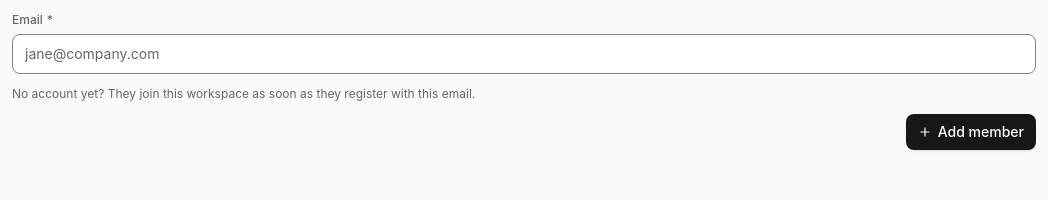
shows a conflict from the server as a form error
Type "ada@example.com" into the field labelled "Email" at [524, 54], box [12,34,1036,74]
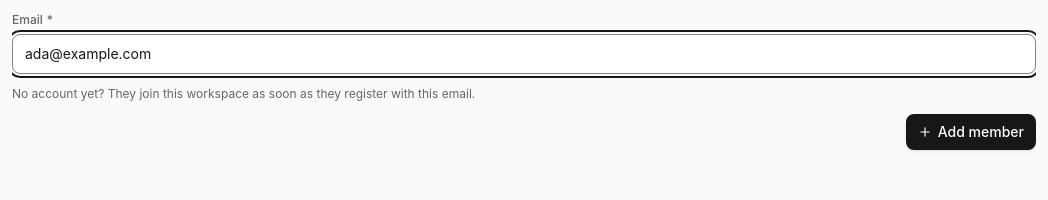
Click the button "Add member" at [971, 132], box [906,114,1036,150]
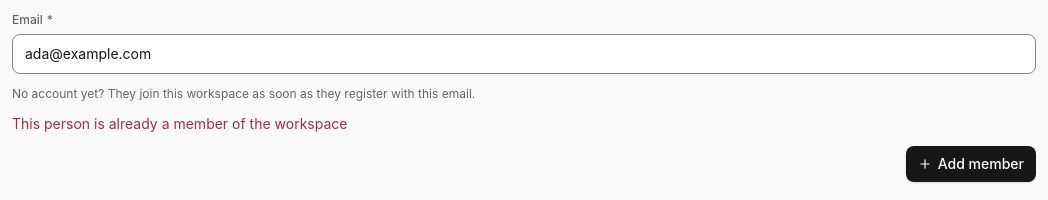
Now the message reads "This person is already a member of the workspace", box [12,115,348,132]
